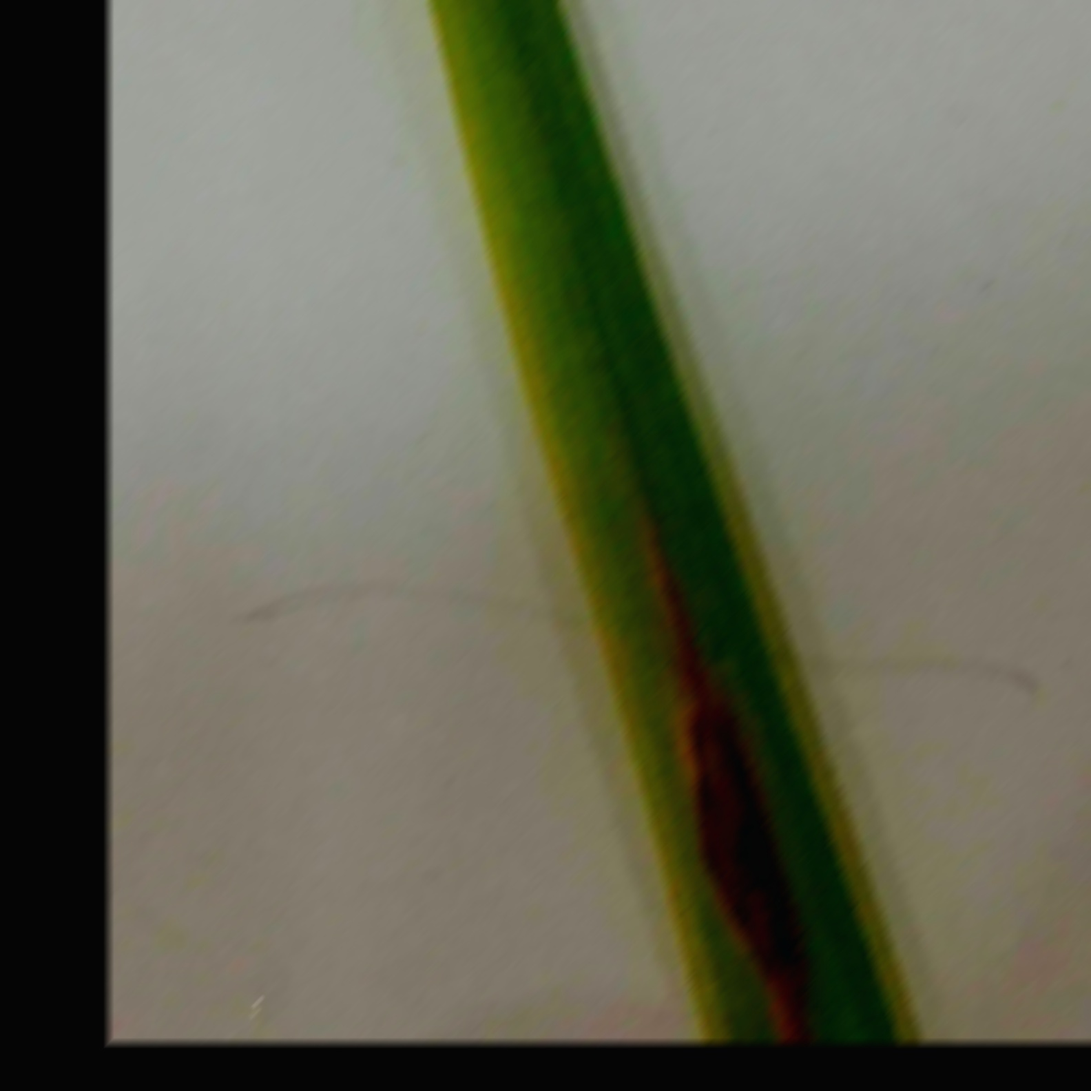Brown_Spot: (685, 627, 812, 1024)
